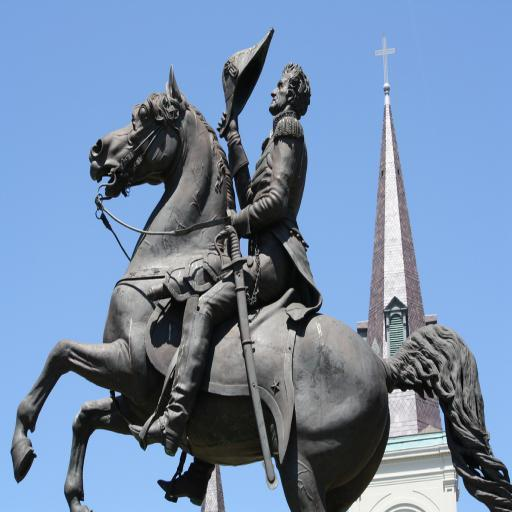horse: (11, 62, 512, 512)
